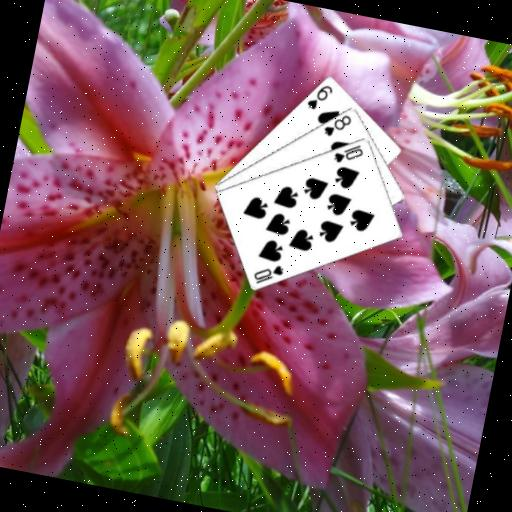10S: (250, 257, 287, 289), (331, 137, 367, 169)
6S: (303, 79, 335, 114)
8S: (319, 108, 354, 142)
